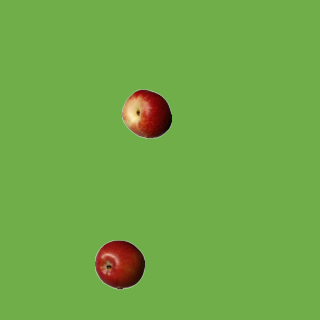Apple Braeburn: (94, 239, 144, 289)
Nectarine: (121, 88, 171, 138)
